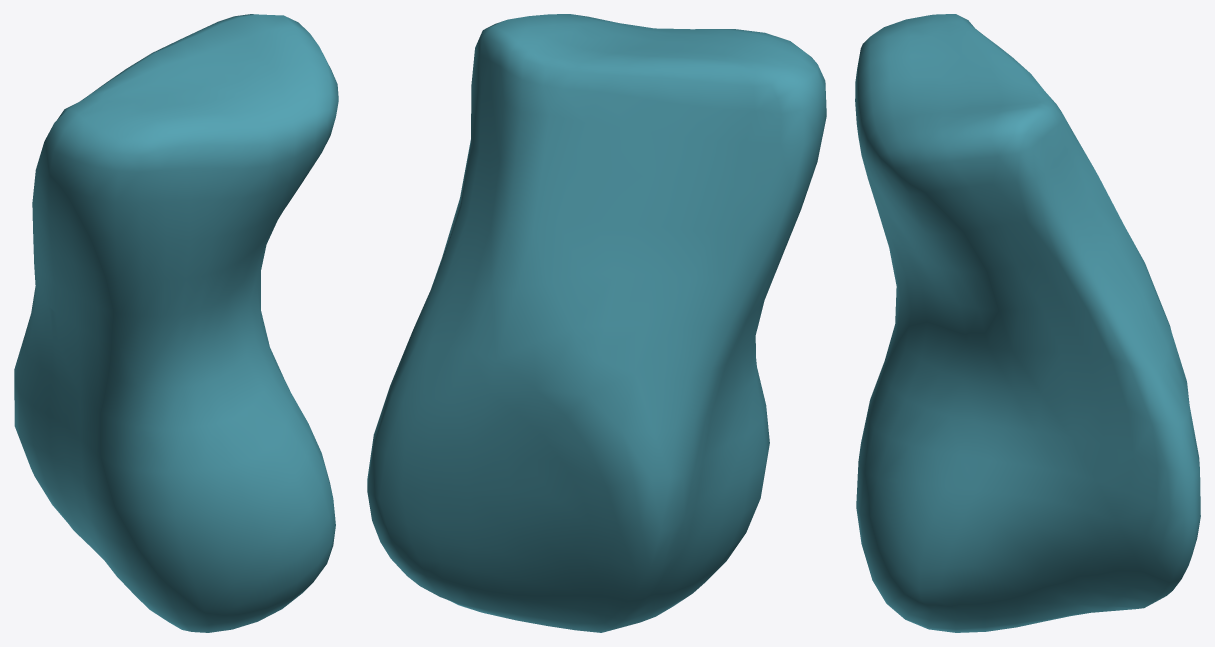
File: VIS_Alpha_Surface_004.dae
The picture shows the model from 3 angles, left to right: view 1: azimuth 30°, elevation 25°; view 2: azimuth 150°, elevation 25°; view 3: azimuth 270°, elevation 25°; orthographic projection. The views are drawn at different scales.
Parts seen in each view (by area): view 1: VIS_Alpha_Surface_004; view 2: VIS_Alpha_Surface_004; view 3: VIS_Alpha_Surface_004.
Part boxes in pixels (<box>): VIS_Alpha_Surface_004: <box>14,14,338,632</box>; VIS_Alpha_Surface_004: <box>367,14,826,632</box>; VIS_Alpha_Surface_004: <box>855,14,1200,632</box>.
Size of the model in its own units: 12.09 by 11.85 by 20.68.
